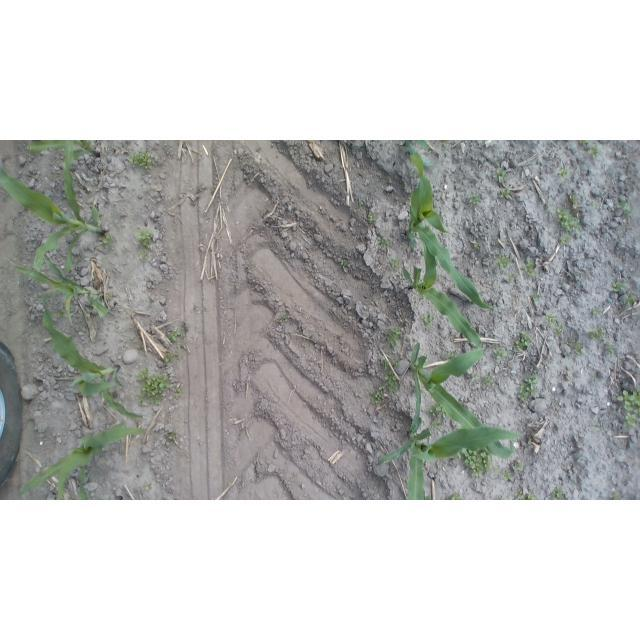Maize: (395, 140, 493, 313), (395, 337, 522, 462), (0, 140, 108, 276), (39, 304, 148, 424), (375, 424, 529, 500), (399, 236, 488, 349), (19, 424, 149, 500), (8, 247, 113, 323), (24, 140, 106, 164)
Weeds: (137, 370, 170, 405), (462, 447, 499, 478), (616, 389, 640, 428), (554, 207, 582, 233), (135, 229, 155, 262), (128, 150, 155, 172), (517, 374, 539, 401), (512, 330, 532, 354), (428, 404, 446, 429), (384, 327, 403, 350), (384, 371, 398, 397), (520, 262, 539, 279), (370, 385, 386, 404), (549, 485, 569, 500), (489, 346, 508, 361), (494, 255, 513, 270), (568, 340, 584, 357), (588, 327, 606, 342), (466, 192, 482, 208), (388, 257, 403, 273), (162, 431, 179, 445), (162, 352, 179, 366), (381, 359, 402, 370), (167, 327, 183, 341), (422, 314, 434, 332), (611, 278, 626, 292), (587, 146, 602, 160), (514, 492, 537, 501), (624, 293, 636, 310), (556, 233, 573, 245), (542, 201, 556, 215), (482, 371, 495, 386), (619, 201, 634, 214), (492, 166, 504, 182), (544, 311, 556, 327), (172, 385, 184, 400), (101, 234, 116, 246), (366, 211, 378, 226), (376, 235, 388, 250), (589, 308, 605, 319), (279, 312, 291, 326), (511, 459, 525, 471), (602, 341, 614, 355), (134, 342, 147, 354), (500, 470, 513, 482), (500, 185, 511, 199), (502, 273, 516, 284), (446, 491, 462, 500), (559, 167, 571, 179), (570, 193, 582, 204), (472, 242, 484, 252), (338, 257, 348, 268), (446, 349, 457, 359), (467, 371, 478, 381), (357, 196, 366, 208), (609, 493, 624, 500), (179, 342, 190, 351), (143, 483, 153, 492), (556, 325, 565, 335), (549, 400, 558, 409), (591, 421, 599, 431), (528, 294, 539, 301), (579, 140, 590, 146), (591, 374, 598, 383)
